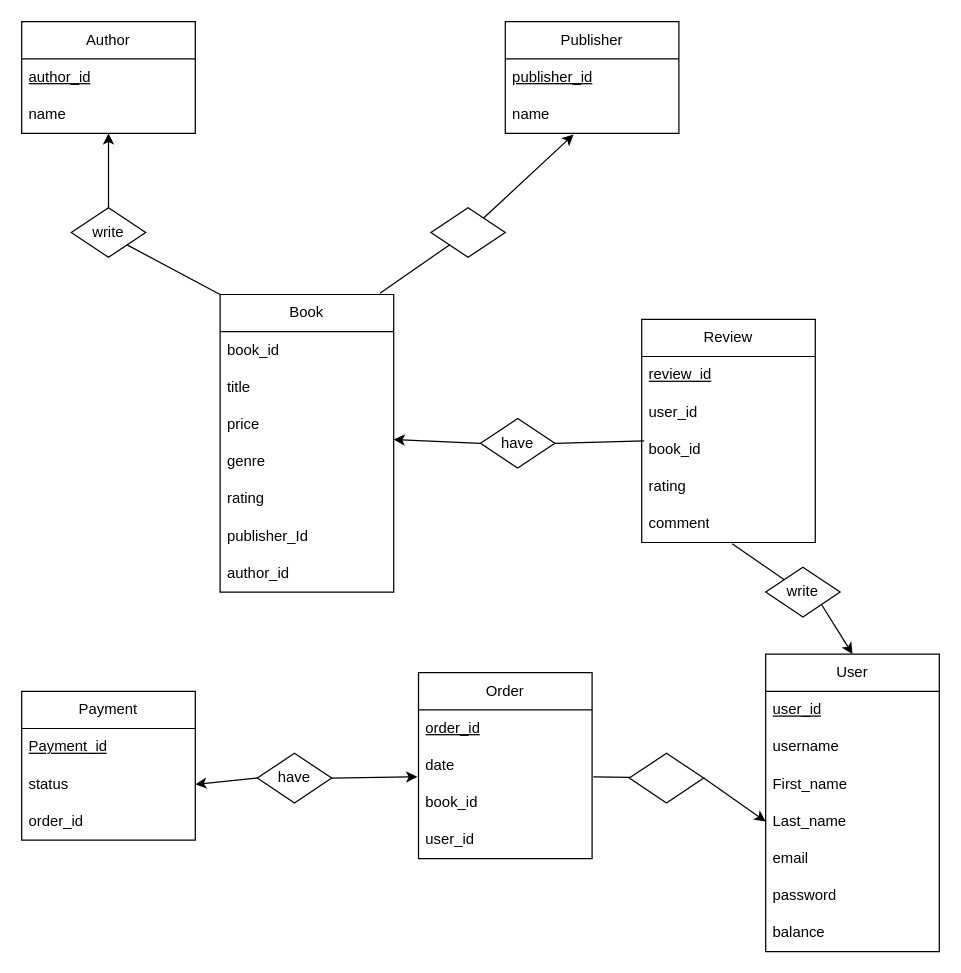
This 961x973 diagram has some shape labels left out. The shapes that lost their labels are listed below. From the top down, each one's centre as x and y in pixels, then its label:
At [467,231]: "publish".
At [666,777]: "place".
